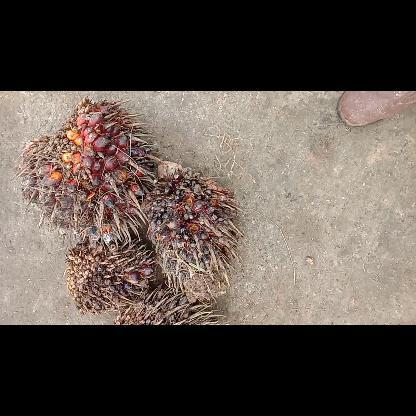TBS abnormal: (147, 157, 237, 296), (66, 236, 158, 314), (116, 290, 220, 324)
TBS masak: (22, 96, 146, 233)
